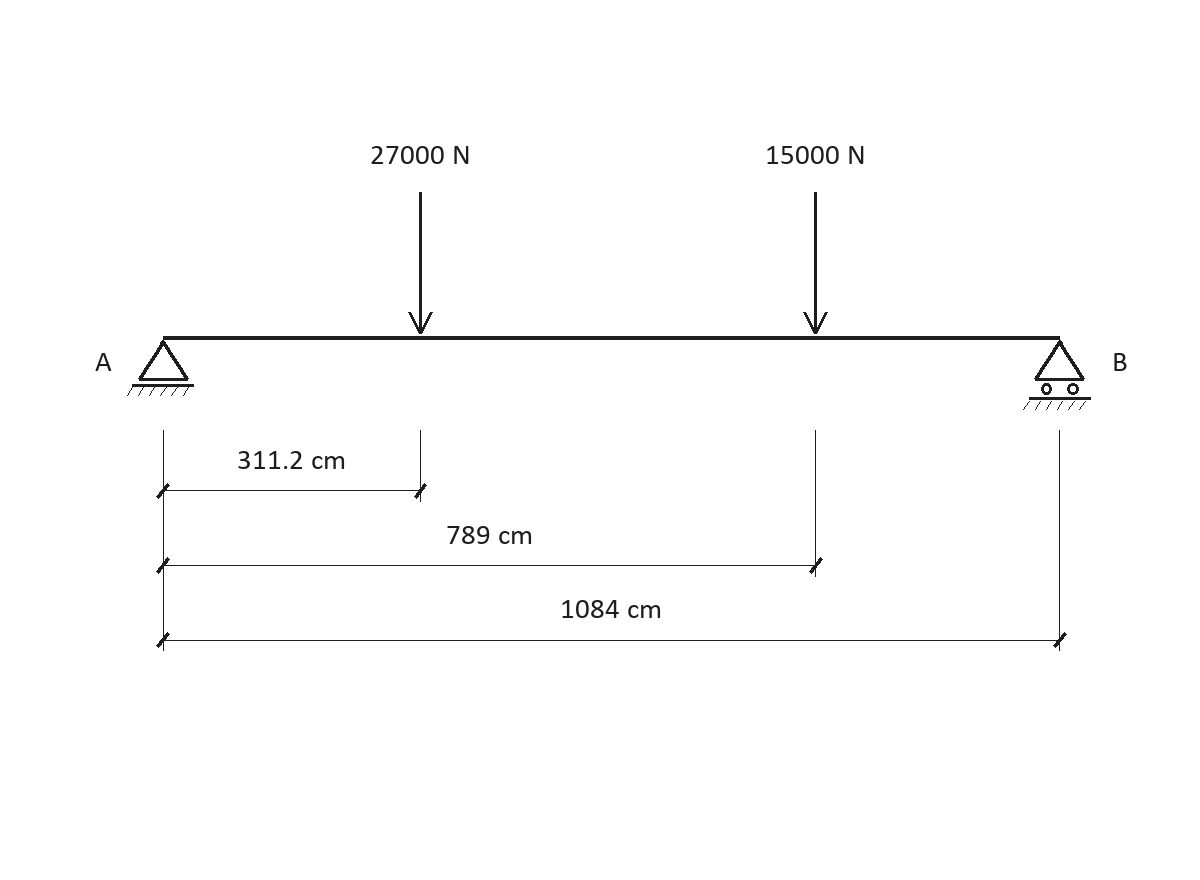pin_support: (127, 340, 194, 396)
point_load: (408, 192, 433, 334), (803, 192, 828, 334)
roller_support: (1023, 340, 1091, 410)
